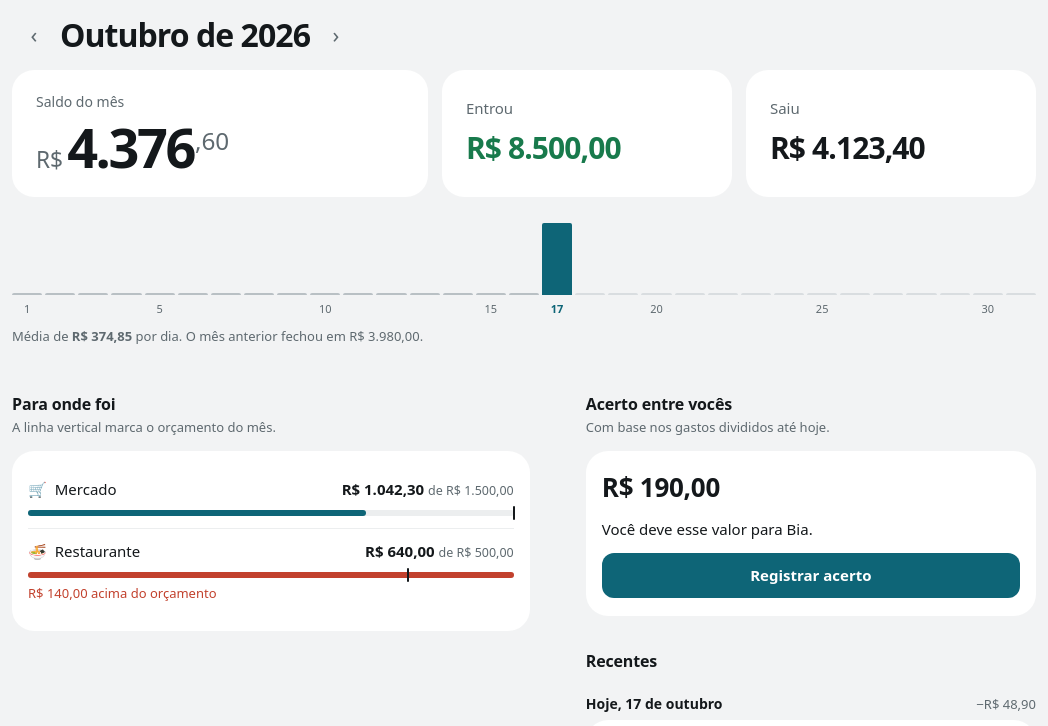
it: Overview: suggested settlement › shows the API error when registering
Click the button "Registrar acerto" at (811, 576), box [602, 553, 1020, 598]
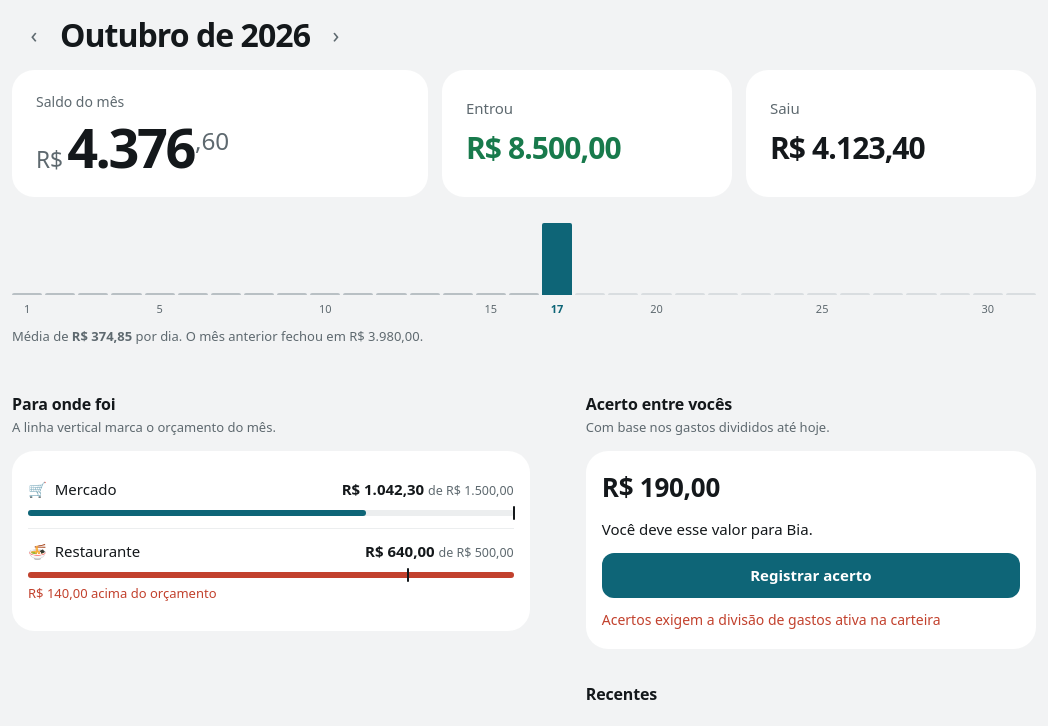
Now the text "Acertos exigem a divisão de gastos ativa na carteira" is shown, box [602, 610, 941, 629]
